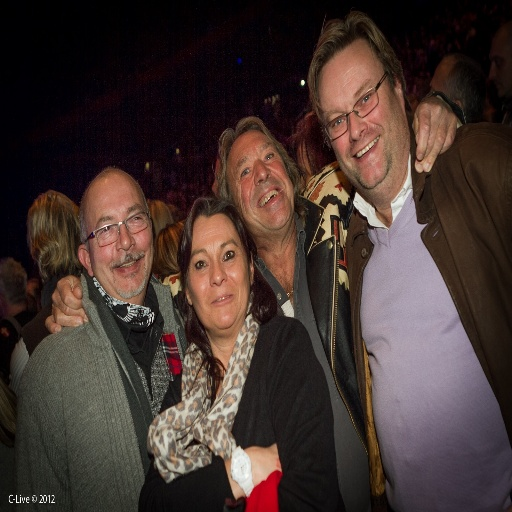hand: (412, 90, 458, 173), (37, 286, 88, 335), (245, 443, 282, 488)
